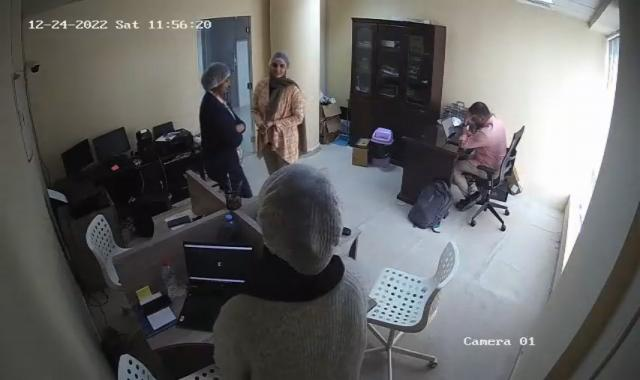hairnet: (258, 163, 345, 276), (202, 60, 232, 96), (270, 50, 289, 81)
no_hairnet: (467, 100, 490, 129)
